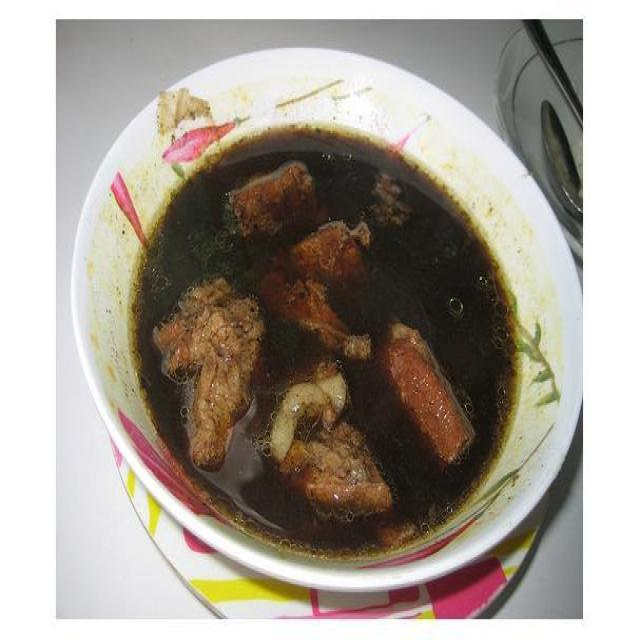Rawon: (114, 127, 534, 523)
